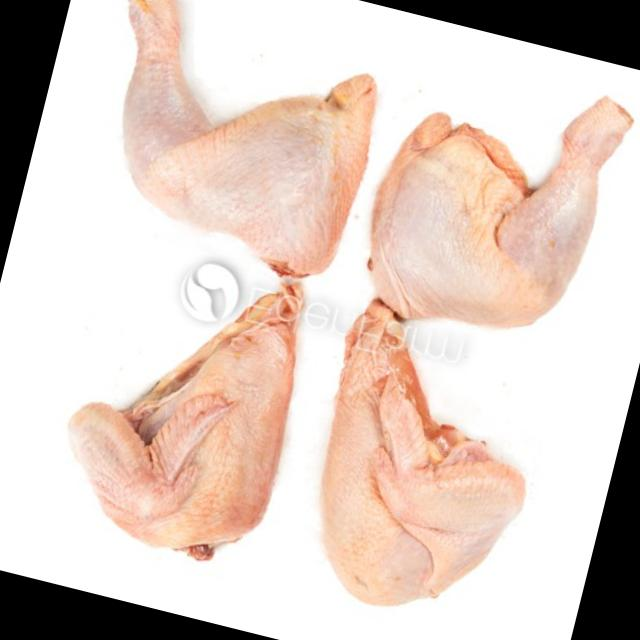Ayam: (45, 237, 323, 576), (73, 0, 394, 291), (284, 301, 560, 637), (349, 50, 638, 357)
